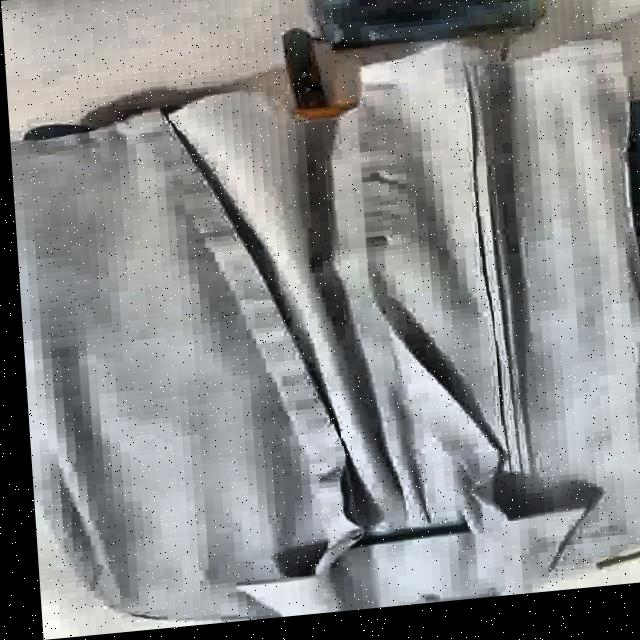clothes: (11, 18, 640, 639)
